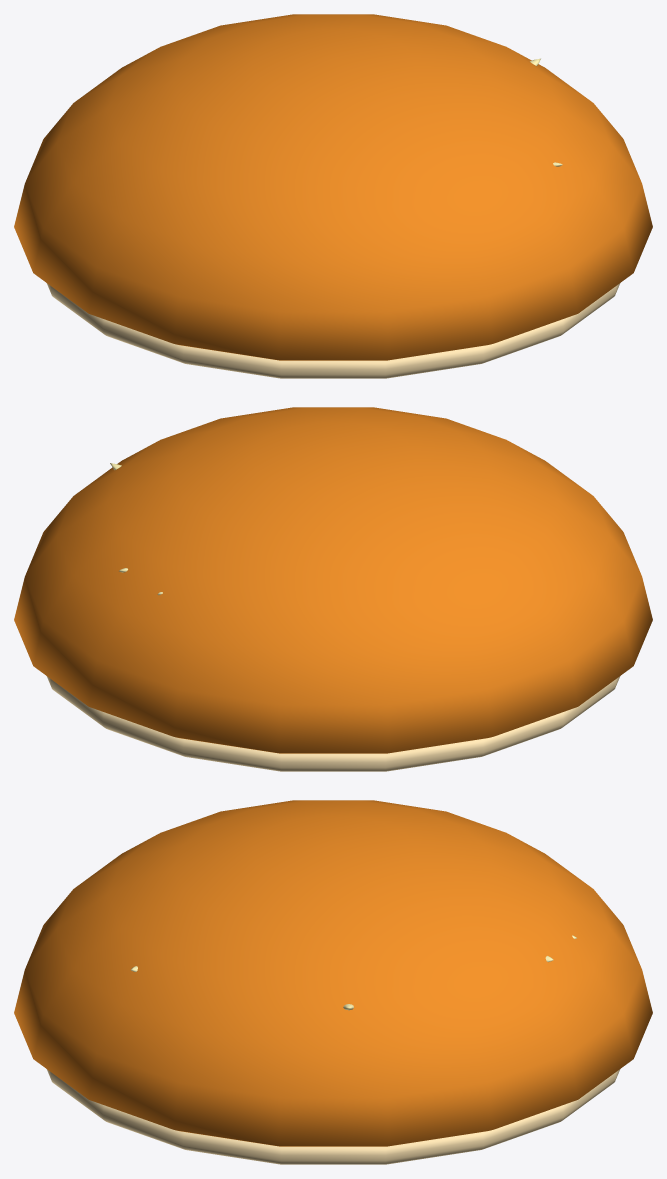
Rendered from food_ingredient_bun_top.gltf.
The picture shows the model from 3 angles, top to bottom: view 1: azimuth 30°, elevation 25°; view 2: azimuth 150°, elevation 25°; view 3: azimuth 270°, elevation 25°; orthographic projection.
Visible parts, largest first — view 1: BunTopCrumbUnder; view 2: BunTopCrumbUnder; view 3: BunTopCrumbUnder.
Part boxes in pixels (x1,y1,x2,y2): BunTopCrumbUnder: [14, 14, 652, 378]; BunTopCrumbUnder: [14, 407, 652, 771]; BunTopCrumbUnder: [14, 800, 652, 1164].
Size of the model in its own units: 0.4294 by 0.1484 by 0.436.
